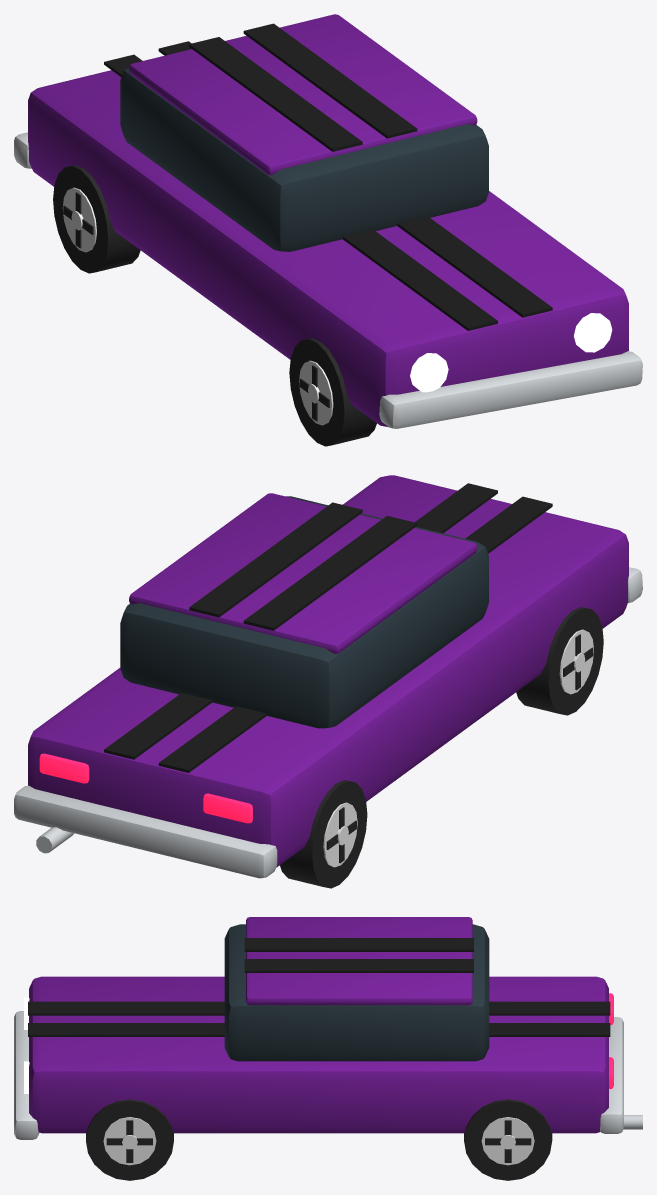
Rendered from heist_getaway.glb.
3 renders of one model, top to bottom at view 1: azimuth 30°, elevation 25°; view 2: azimuth 150°, elevation 25°; view 3: azimuth 270°, elevation 25°, orthographic. The views are drawn at different scales.
Visible parts, largest first — view 1: HeistGetaway_body, Wheel_FR, Wheel_RR; view 2: HeistGetaway_body, Wheel_FR, Wheel_RR; view 3: HeistGetaway_body, Wheel_RL, Wheel_FL.
Part boxes in pixels (x1,y1,x2,y2): HeistGetaway_body: (14,14,642,428); Wheel_FR: (289,338,376,446); Wheel_RR: (53,165,140,273); HeistGetaway_body: (14,475,642,878); Wheel_FR: (516,607,603,715); Wheel_RR: (280,780,367,888); HeistGetaway_body: (14,917,642,1139); Wheel_RL: (464,1099,552,1180); Wheel_FL: (86,1099,173,1180).
Size of the model in its own units: 1.96 by 1.54 by 4.99.
